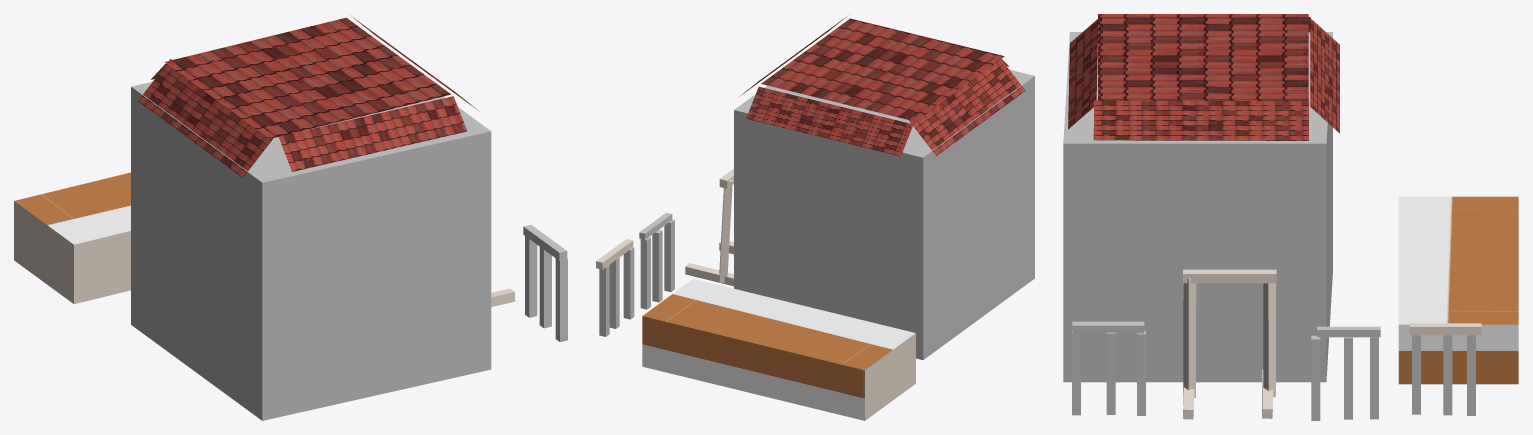
The model's file is southern_building.fbx.
3 renders of one model, left to right at view 1: azimuth 30°, elevation 25°; view 2: azimuth 150°, elevation 25°; view 3: azimuth 270°, elevation 25°, orthographic. The views are drawn at different scales.
Parts seen in each view (by area): view 1: Plane.003, Cube.017; view 2: Plane.003, Cube.017; view 3: Plane.003, Cube.017.
Boxes of the visible parts, left/top/right/bottom form: Plane.003: left=131, top=15, right=567, bottom=420; Cube.017: left=14, top=172, right=130, bottom=304; Plane.003: left=596, top=16, right=1034, bottom=359; Cube.017: left=642, top=279, right=915, bottom=420; Plane.003: left=1063, top=14, right=1481, bottom=420; Cube.017: left=1398, top=196, right=1518, bottom=384.
Bounding box in the file's own units: 294 × 228 × 346.
